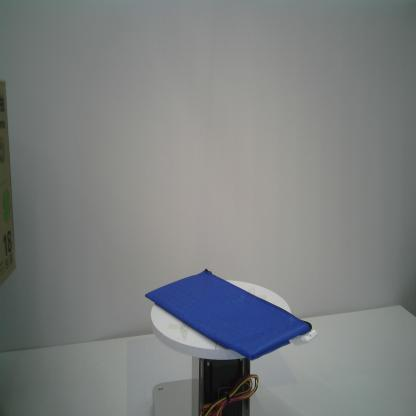Stationery: (145, 268, 313, 361)
